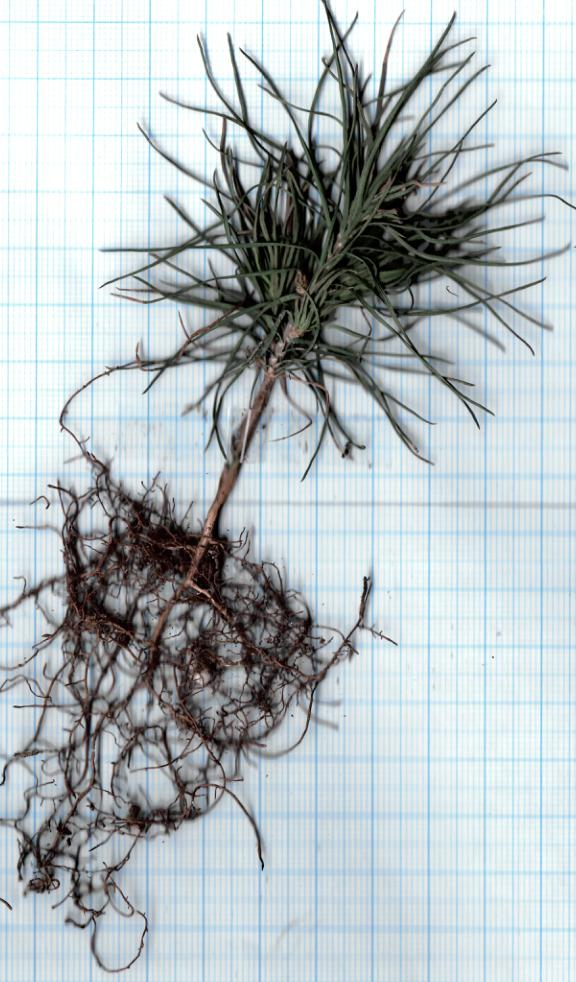flower: (89, 5, 576, 462)
root: (3, 483, 381, 945)
stem: (186, 335, 301, 536)
